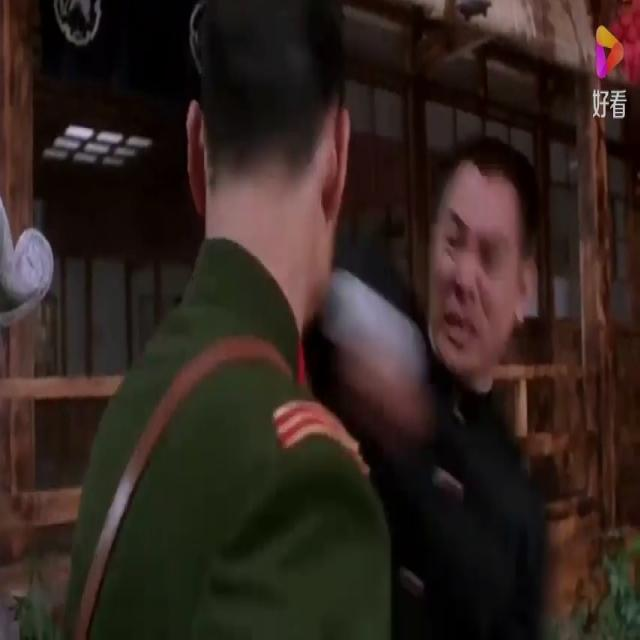fight: (12, 0, 594, 639)
